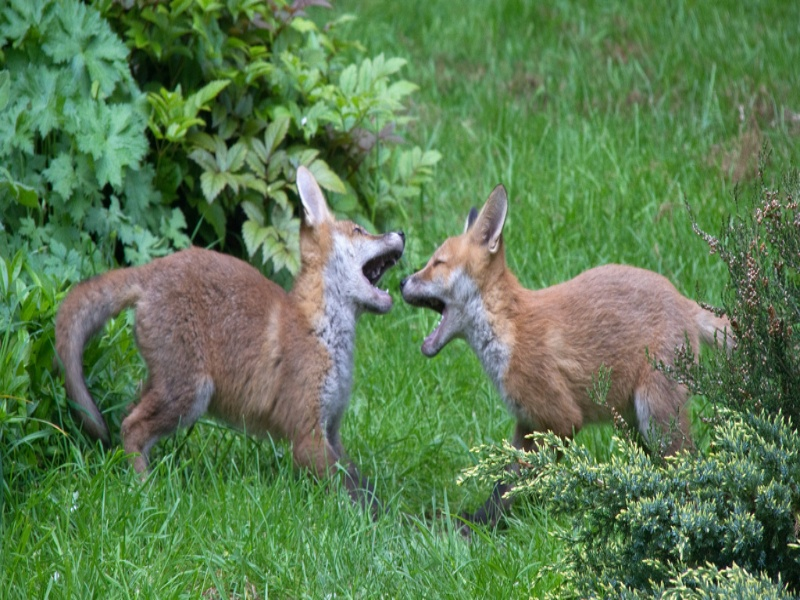fox: (400, 174, 754, 538), (49, 166, 406, 523)
